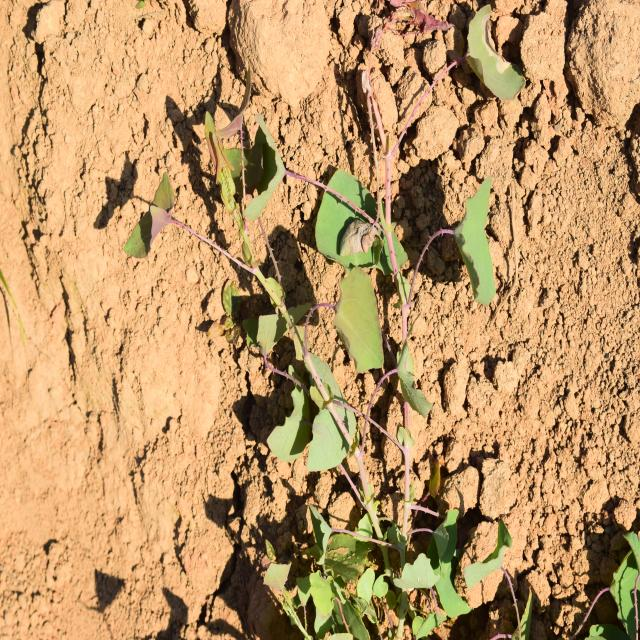Asiatic_Smartweed: (253, 265, 432, 485), (247, 137, 506, 284)
